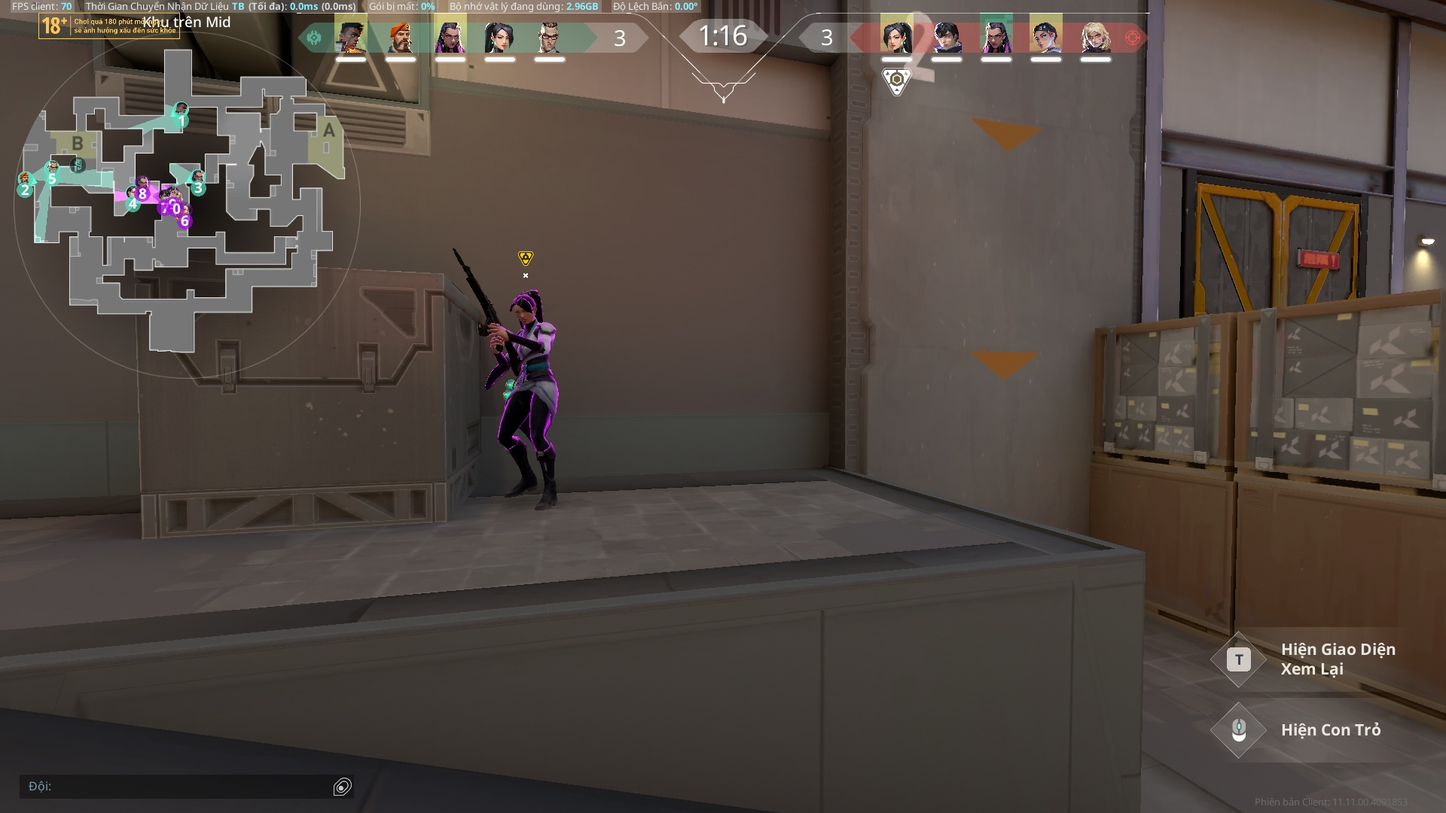body: (510, 324, 557, 381)
head: (509, 293, 538, 323)
